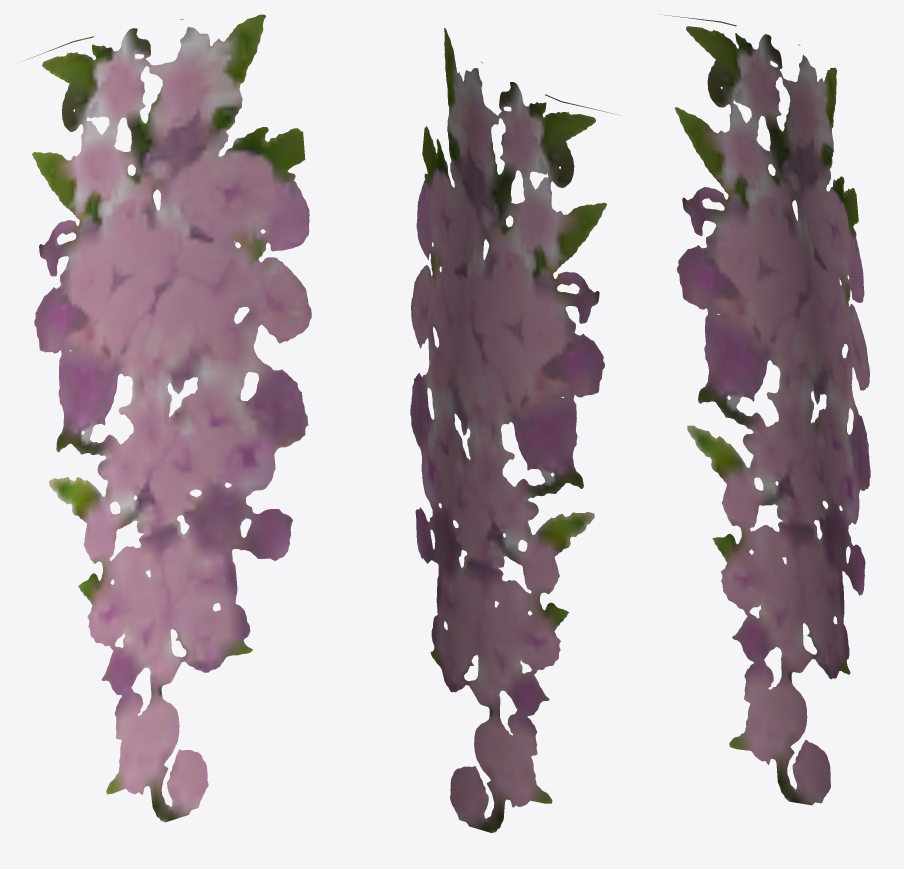
The model's file is liemo_plant_10 (33).fbx.
3 renders of one model, left to right at view 1: azimuth 30°, elevation 25°; view 2: azimuth 150°, elevation 25°; view 3: azimuth 330°, elevation 25°, orthographic. The views are drawn at different scales.
Parts seen in each view (by area): view 1: liemo_plant_10 (33); view 2: liemo_plant_10 (33); view 3: liemo_plant_10 (33).
Boxes of the visible parts, x1,y1,x2,y2 form: liemo_plant_10 (33): [22, 14, 311, 822]; liemo_plant_10 (33): [410, 28, 619, 832]; liemo_plant_10 (33): [659, 14, 870, 805].
Size of the model in its own units: 0.6168 by 1.62 by 0.2117.
